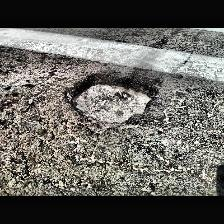pothole: (64, 73, 158, 127)
